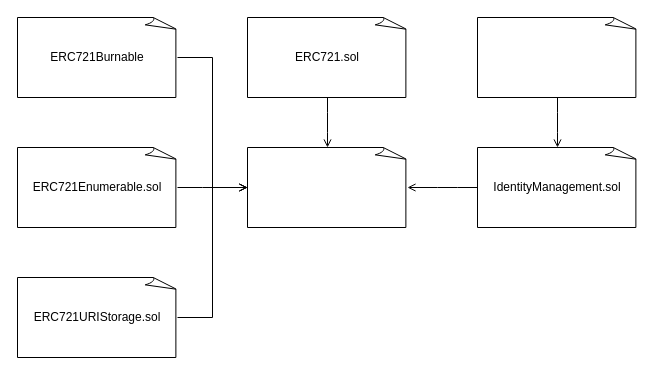
The diagram is 655 pixels wide and 375 high, and some of its shapes have lost their labels. Here are the shapes that lost their labels. From the top down, the centre of each, then its label:
At [557,57]: "AccessControl.sol".
At [327,187]: "ImageShare.sol".
